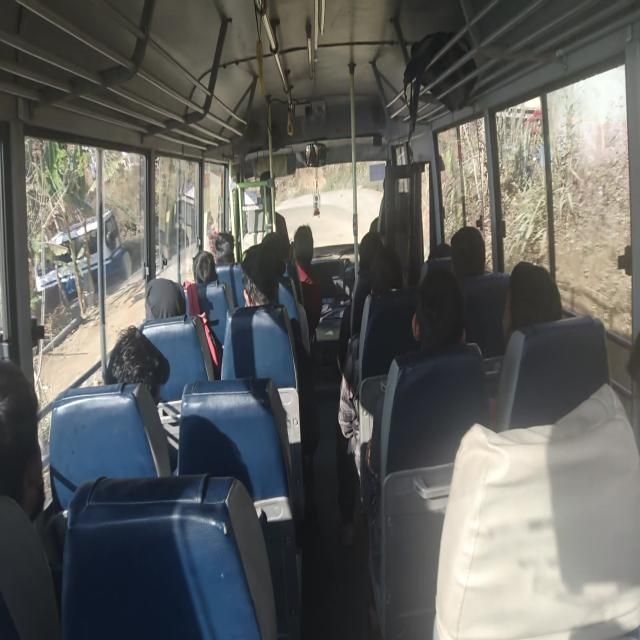person: (365, 266, 482, 479), (0, 357, 63, 638), (240, 241, 318, 461), (338, 245, 405, 482), (105, 324, 178, 474), (0, 357, 46, 522), (241, 242, 301, 357), (337, 230, 384, 376), (502, 260, 562, 347), (106, 325, 170, 405), (411, 266, 467, 351), (292, 224, 323, 339), (240, 242, 280, 307), (450, 225, 485, 278), (144, 278, 187, 320), (192, 250, 218, 284), (213, 231, 235, 265)
